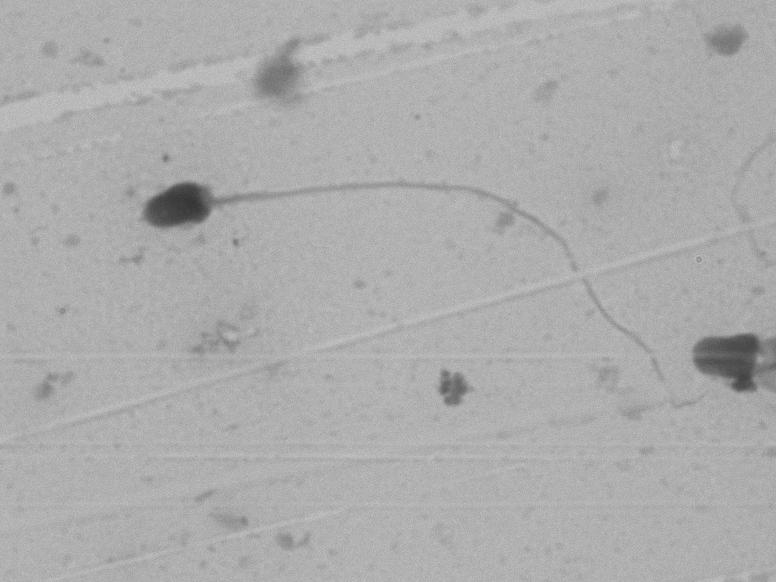Abnormal: (86, 136, 671, 400)
